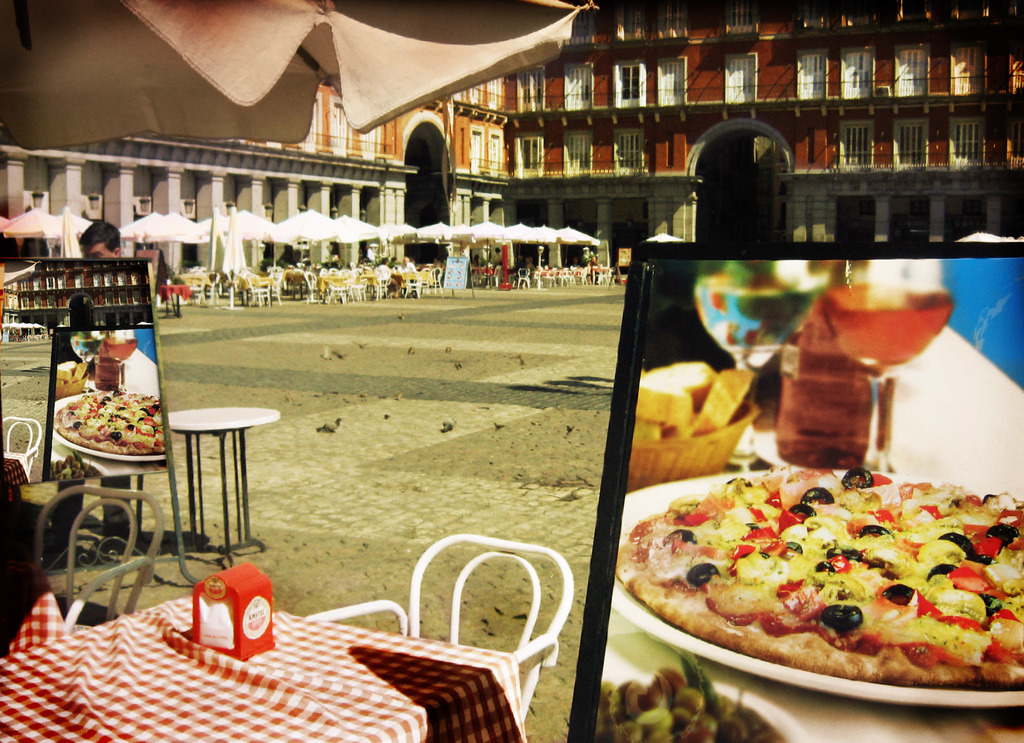Pizza: (631, 464, 1002, 703), (56, 387, 163, 456)
